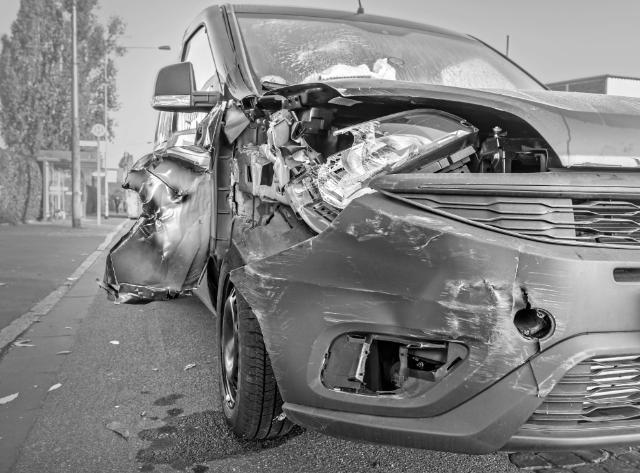Bumper: (249, 199, 545, 434)
Fender: (212, 105, 268, 259)
Light: (277, 99, 524, 174)
